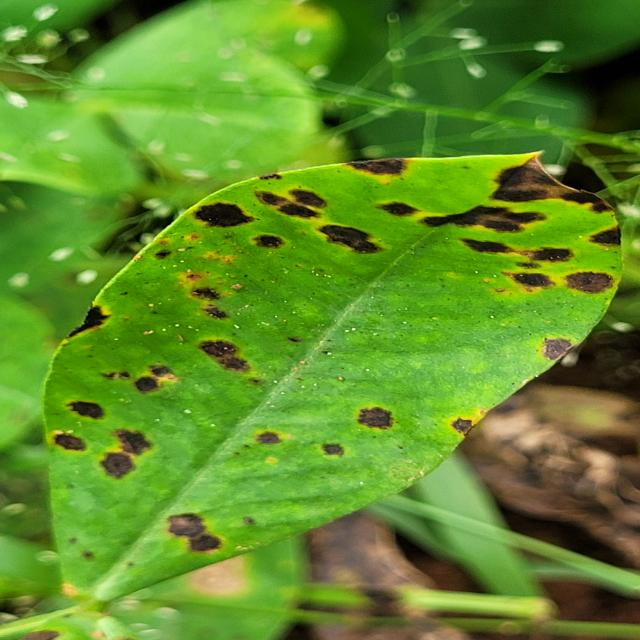Ground nut_tikka leaf spot: (48, 151, 628, 599)
